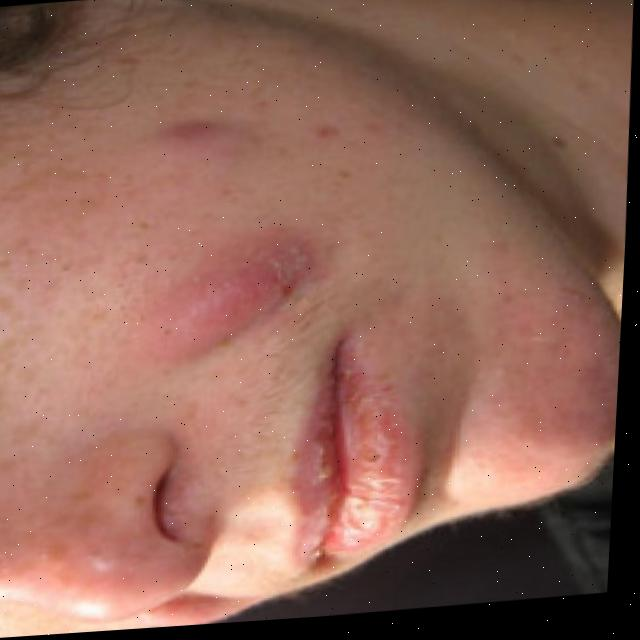Acne: (126, 110, 376, 356)
